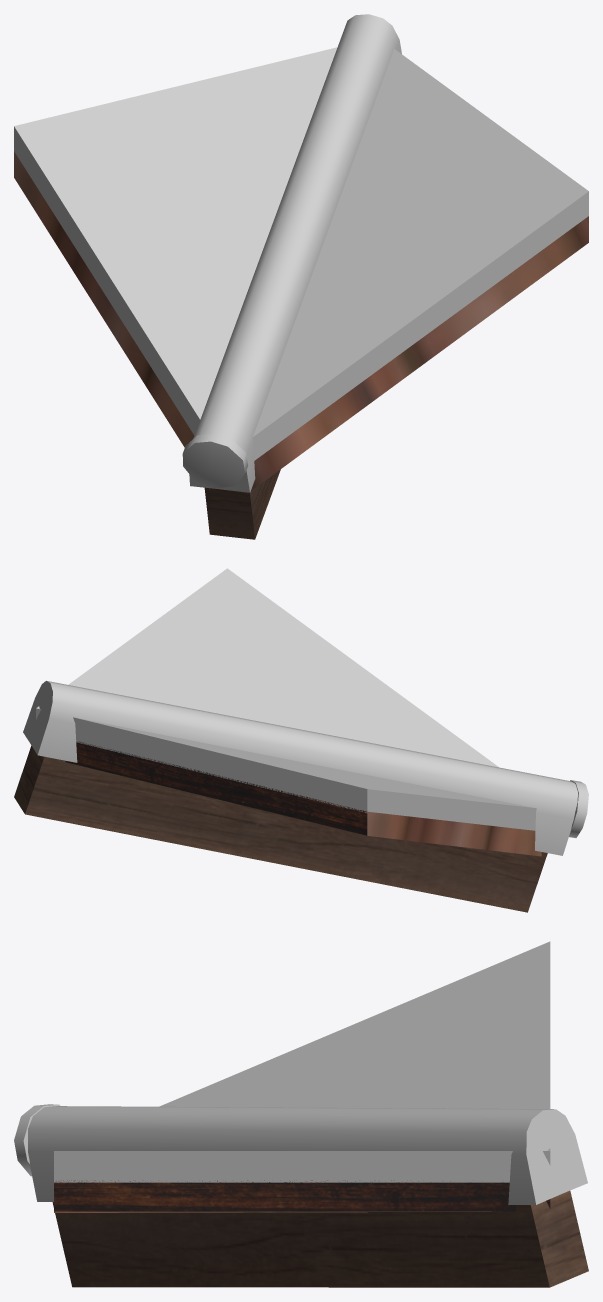
The model's file is kawara_2x0t_a1corner_cav.fbx.
The picture shows the model from 3 angles, top to bottom: view 1: azimuth 30°, elevation 25°; view 2: azimuth 150°, elevation 25°; view 3: azimuth 270°, elevation 25°; orthographic projection. The views are drawn at different scales.
Parts seen in each view (by area): view 1: kawara_2x0t_a1corner_cav; view 2: kawara_2x0t_a1corner_cav; view 3: kawara_2x0t_a1corner_cav.
Boxes of the visible parts, x1=… form: kawara_2x0t_a1corner_cav: x1=14, y1=14, x2=588, y2=539; kawara_2x0t_a1corner_cav: x1=14, y1=568, x2=588, y2=912; kawara_2x0t_a1corner_cav: x1=14, y1=941, x2=588, y2=1287.
Bounding box in the file's own units: 122 × 82.97 × 121.
